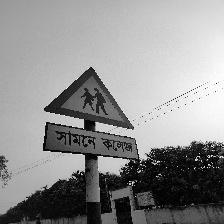College-in-front: (38, 68, 175, 186)
